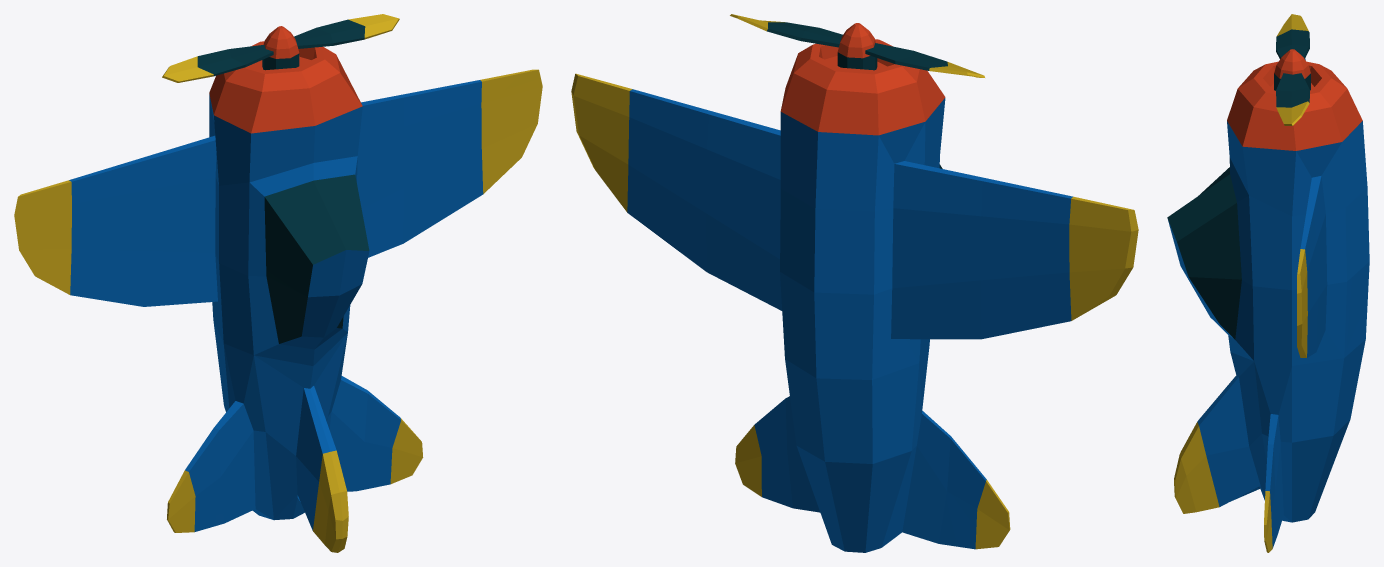
The picture shows the model from 3 angles, left to right: view 1: azimuth 30°, elevation 25°; view 2: azimuth 150°, elevation 25°; view 3: azimuth 270°, elevation 25°; orthographic projection. The views are drawn at different scales.
Visible parts, largest first — view 1: aviao_1, helice_2; view 2: aviao_1, helice_2; view 3: aviao_1, helice_2.
Part boxes in pixels (box(x1,y1,x2,y2)): aviao_1: box(14, 41, 542, 552); helice_2: box(162, 14, 399, 82); aviao_1: box(571, 39, 1138, 552); helice_2: box(730, 14, 984, 77); aviao_1: box(1167, 59, 1369, 552); helice_2: box(1274, 14, 1310, 125).
Size of the model in its own units: 7.45 by 6.51 by 2.58.
